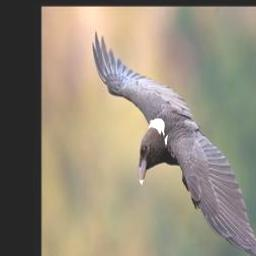Crow: (92, 29, 256, 256)
